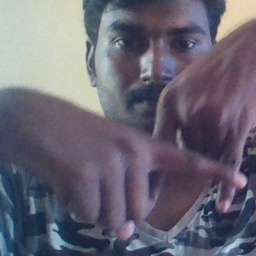H: (135, 90, 251, 219)
